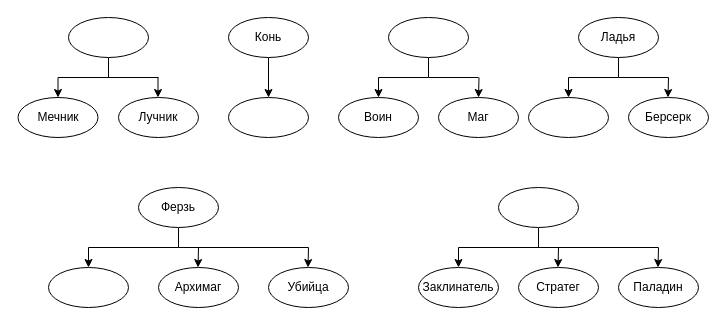
The diagram is 726 pixels wide and 325 high, and some of its shapes have lost their labels. The centre of each missing label's shape, as x and y in pixels:
"Защитник" goes at point (568, 117).
"Король" goes at point (538, 207).
"Наездник" goes at point (268, 117).
"Пешка" goes at point (108, 37).
"Слон" goes at point (428, 37).
"Чемпион" goes at point (88, 287).
